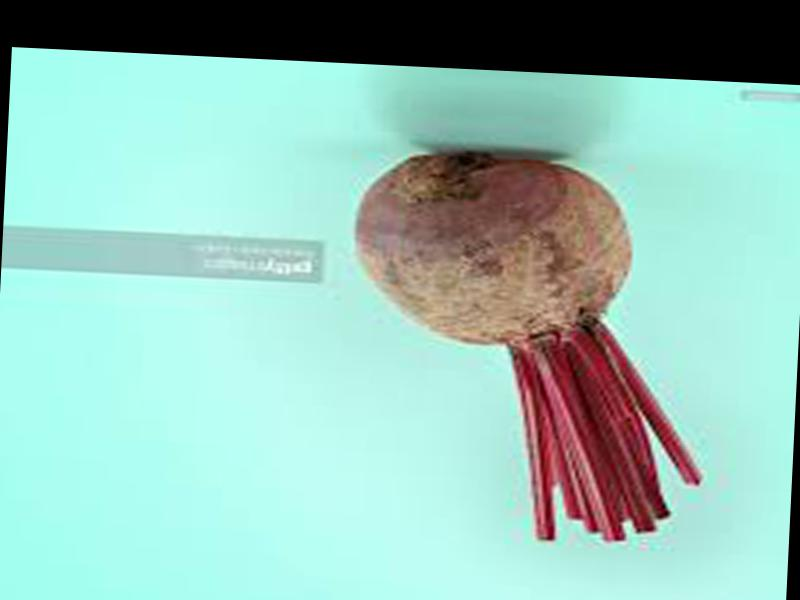Beet: (340, 146, 714, 549)
